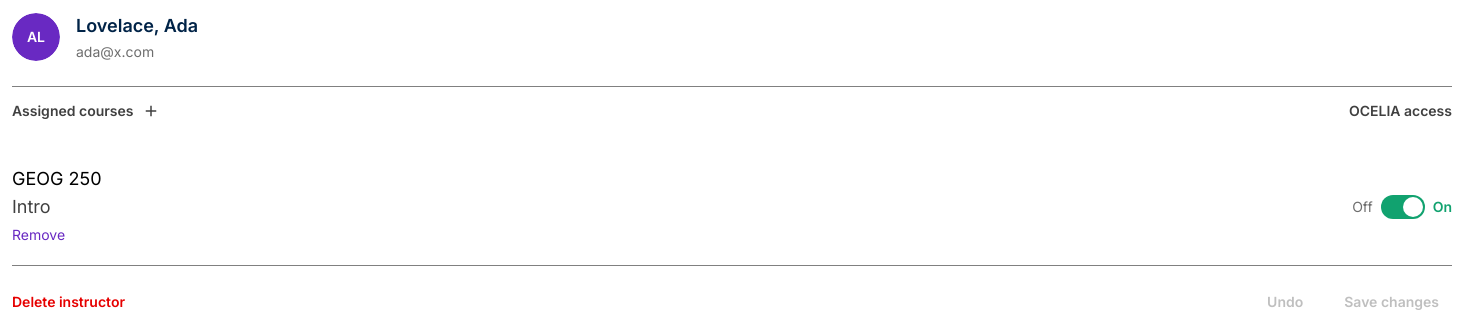
Test: InstructorDetail (staged editing) › enables Undo with Save on a staged edit and resets everything on click
Expected: the button "Undo" is disabled, [1255,288,1315,316]
Expected: the button "Save changes" is disabled, [1331,288,1452,316]
A staged course removal enables both (and drops the row).
Click the button "Remove": (39, 235) [12,221,65,249]
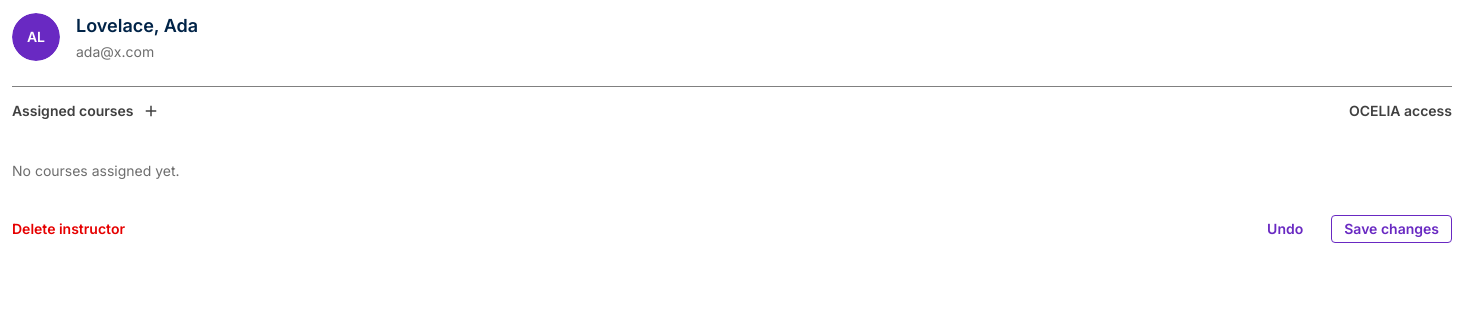
Result: the text "GEOG 250" is gone
Result: the button "Undo" is enabled
Result: the button "Save changes" is enabled at [1331,215,1452,243]
Undo reverts everything: the row returns, both disable again, nothing saved.
Click the button "Undo": (1285, 229) [1255,215,1315,243]
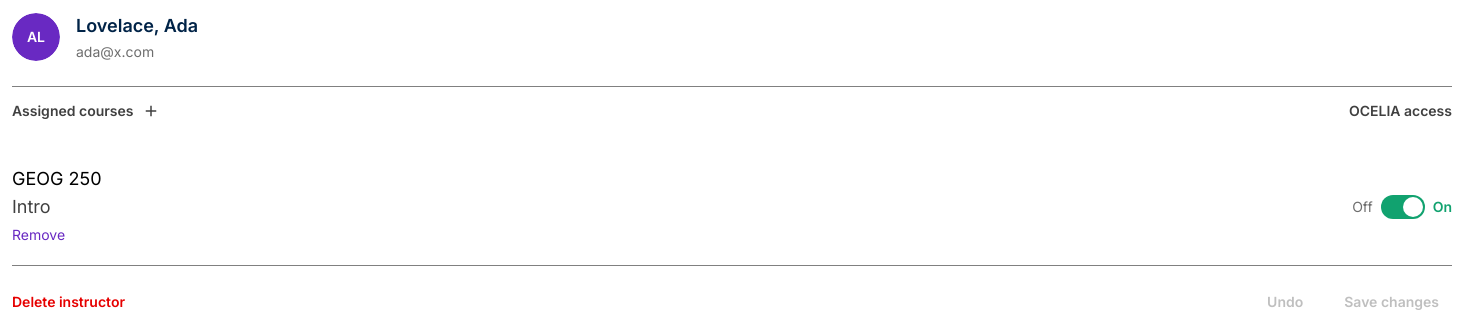
Result: the text "GEOG 250" is shown at [12,168,102,189]
Result: the button "Undo" is disabled at [1255,288,1315,316]
Result: the button "Save changes" is disabled at [1331,288,1452,316]
